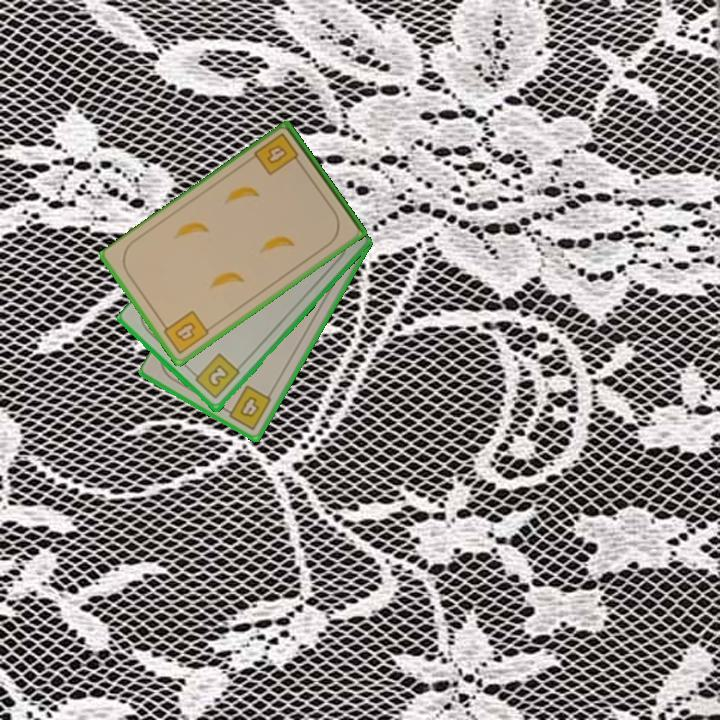2b: (188, 350, 243, 402)
4b: (220, 382, 275, 433), (158, 307, 212, 357), (251, 130, 305, 179)
